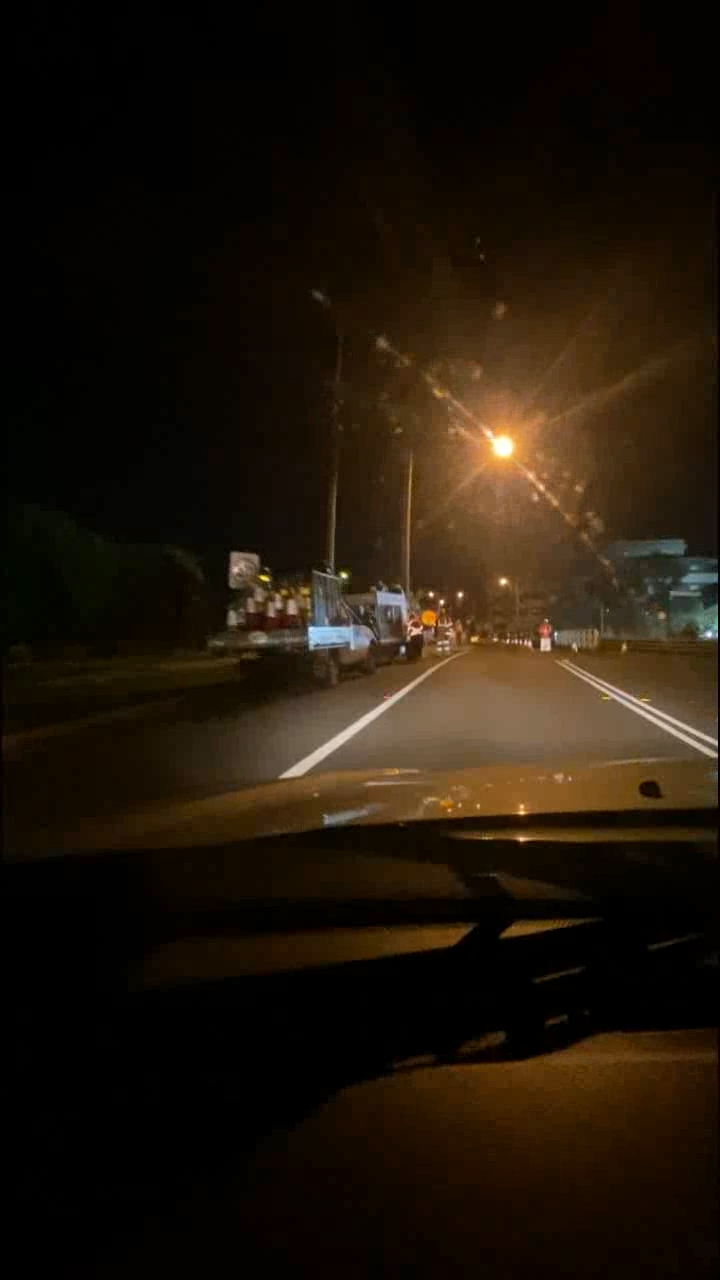car: (238, 573, 382, 682)
person: (404, 612, 426, 663), (432, 610, 454, 661)
